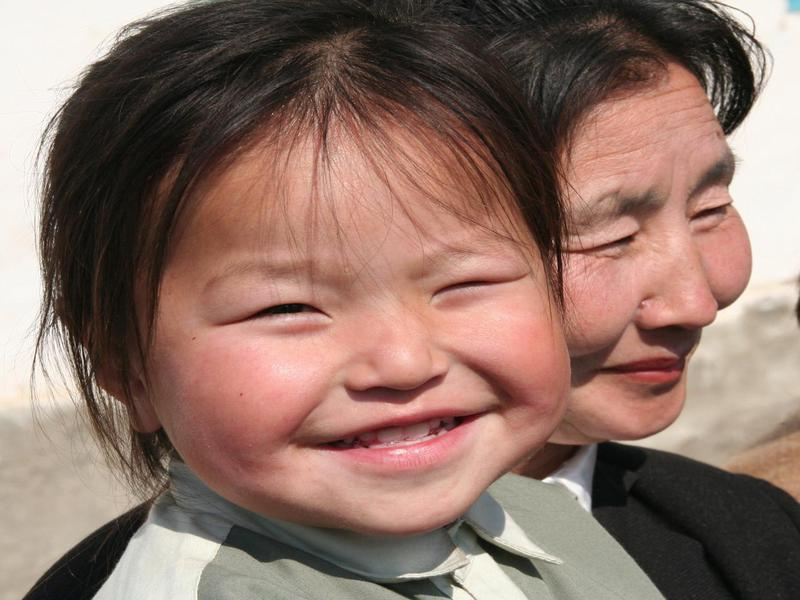person: (31, 1, 608, 600), (440, 2, 796, 600)
